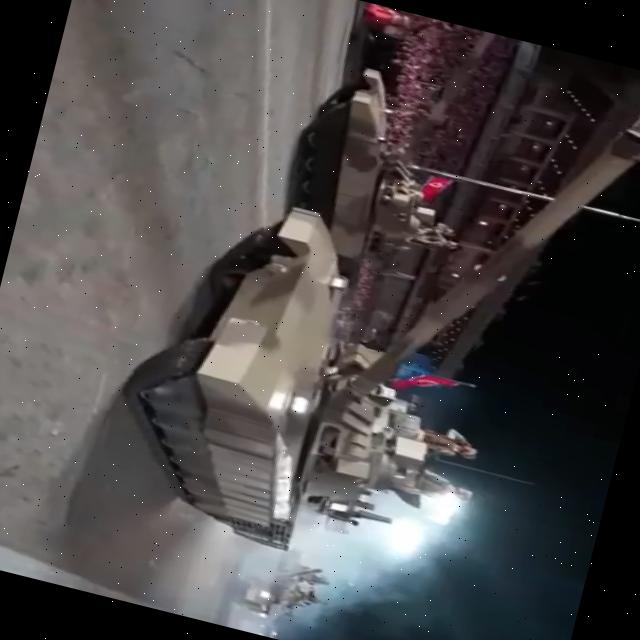north tank: (65, 0, 640, 623), (213, 49, 508, 328), (203, 530, 356, 640)
